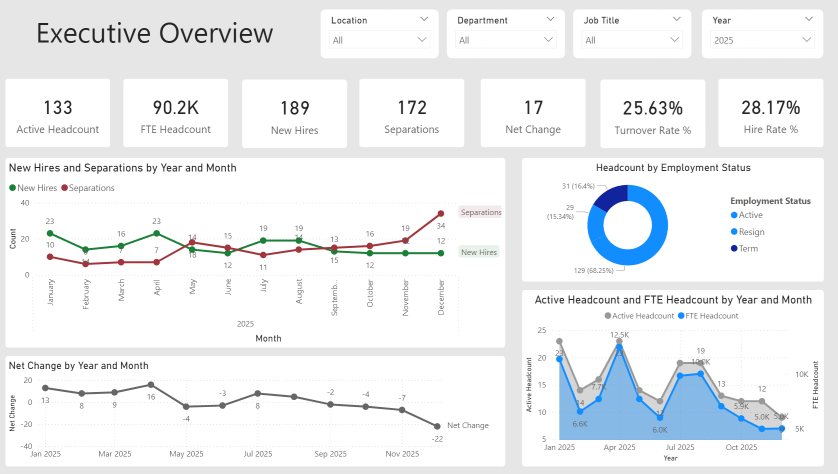

What the dashboard file says about the page in this screenshot:
{"tool":"powerbi","page":{"name":"EXECUTIVE","canvas":[1280,720],"ordinal":0},"visuals":[{"type":"card","fields":{"Values":["*Measures.Active Headcount"]},"box":[11.7,118.3,160,105],"z":0},{"type":"card","fields":{"Values":["*Measures.New Hires"]},"box":[370,120,160,105],"z":1000},{"type":"card","fields":{"Values":["*Measures.FTE Headcount"]},"box":[190,118.3,160,105],"z":2000},{"type":"card","fields":{"Values":["*Measures.Terminations"]},"box":[548,118.3,160,105],"z":3000},{"type":"areaChart","fields":{"Y":["*Measures.Active Headcount"],"Y2":["*Measures.FTE Headcount"],"Category":["dimDate.Date.Variation.Date Hierarchy.Year","dimDate.Date.Variation.Date Hierarchy.Month"]},"box":[793.3,438.3,458.3,268.3],"z":4000},{"type":"lineChart","fields":{"Y":["*Measures.New Hires","*Measures.Terminations"],"Category":["dimDate.Date.Variation.Date Hierarchy.Year","dimDate.Date.Variation.Date Hierarchy.Month"]},"box":[11.7,238.3,758.3,288.3],"z":5000},{"type":"lineChart","fields":{"Y":["*Measures.Net Change"],"Category":["dimDate.Date.Variation.Date Hierarchy.Year","dimDate.Date.Variation.Date Hierarchy.Month"]},"box":[11.7,538.3,758.3,168.3],"z":6000},{"type":"card","fields":{"Values":["*Measures.Net Change"]},"box":[731,118.3,160,105],"z":7000},{"type":"card","fields":{"Values":["*Measures.Turnover Rate %"]},"box":[913,120,160,105],"z":8000},{"type":"card","fields":{"Values":["*Measures.Hire Rate %"]},"box":[1091.7,118.3,160,105],"z":9000},{"type":"donutChart","fields":{"Y":["*Measures.Headcount"],"Category":["Employees.Employment Status"]},"box":[793.3,238.3,458.3,188.3],"z":10000},{"type":"textbox","box":[11.7,13.3,453.3,93.3],"z":11000},{"type":"slicer","fields":{"Values":["dimDate.Year"]},"box":[1066.7,13.3,185,75],"z":12000},{"type":"slicer","fields":{"Values":["Employees.Job Title"]},"box":[871.7,13.3,180,75],"z":13000},{"type":"slicer","fields":{"Values":["Employees.Department"]},"box":[680,13.3,180,75],"z":14000},{"type":"slicer","fields":{"Values":["Employees.Location"]},"box":[488.3,13.3,180,75],"z":15000}]}

Visuals, with their boxes in screenshot pixels (x1, y1, x2, y2), scaled from the page's 1280x720 canvas onto the 838x474 screenshot:
card - *Measures.Active Headcount: (8, 78, 112, 147)
card - *Measures.New Hires: (242, 79, 347, 148)
card - *Measures.FTE Headcount: (124, 78, 229, 147)
card - *Measures.Terminations: (359, 78, 464, 147)
areaChart - *Measures.Active Headcount x *Measures.FTE Headcount: (519, 289, 819, 465)
lineChart - *Measures.New Hires x *Measures.Terminations: (8, 157, 504, 347)
lineChart - *Measures.Net Change x dimDate.Date.Variation.Date Hierarchy.Year: (8, 354, 504, 465)
card - *Measures.Net Change: (479, 78, 583, 147)
card - *Measures.Turnover Rate %: (598, 79, 702, 148)
card - *Measures.Hire Rate %: (715, 78, 819, 147)
donutChart - *Measures.Headcount x Employees.Employment Status: (519, 157, 819, 281)
textbox: (8, 9, 304, 70)
slicer - dimDate.Year: (698, 9, 819, 58)
slicer - Employees.Job Title: (571, 9, 689, 58)
slicer - Employees.Department: (445, 9, 563, 58)
slicer - Employees.Location: (320, 9, 438, 58)
